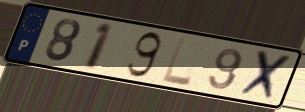1: (84, 21, 115, 73)
8: (44, 18, 83, 63)
9: (126, 31, 164, 79), (206, 47, 245, 90)
L: (160, 35, 194, 88)
X: (235, 48, 296, 104)
